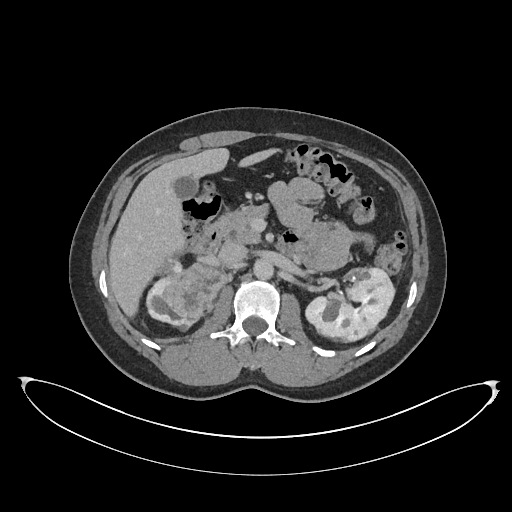Lesion: (318, 296, 346, 325)
